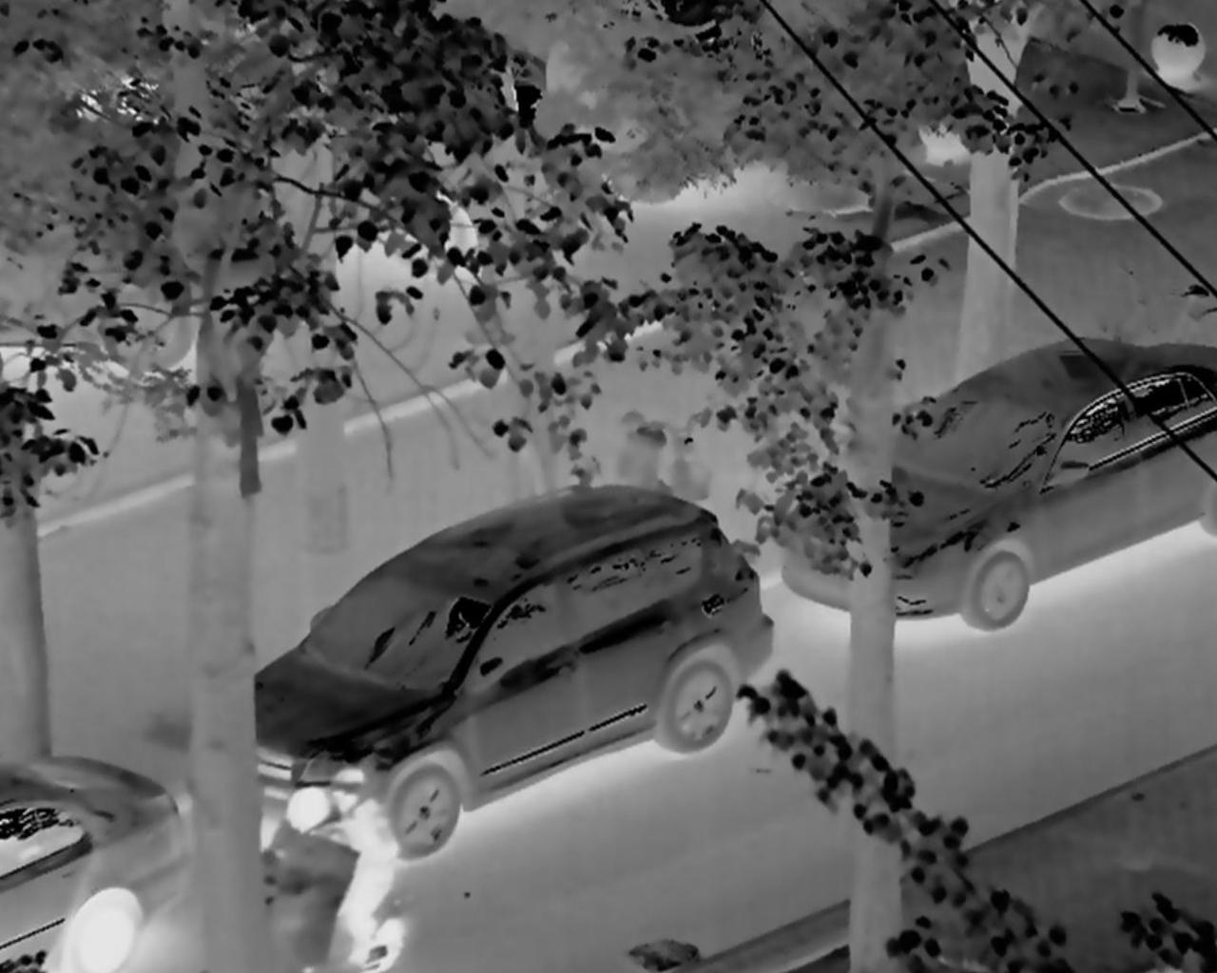person: (256, 791, 345, 973), (335, 764, 402, 970)
